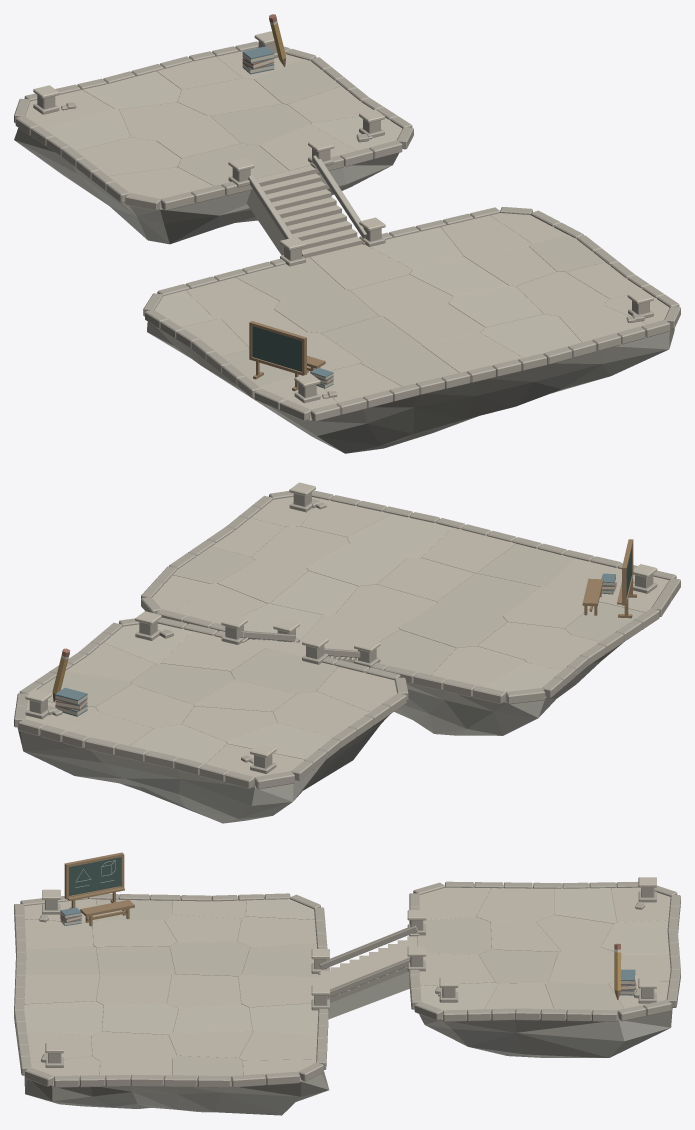
Rendered from Cenariofase4v2.fbx.
3 renders of one model, top to bottom at view 1: azimuth 30°, elevation 25°; view 2: azimuth 150°, elevation 25°; view 3: azimuth 270°, elevation 25°, orthographic. The views are drawn at different scales.
Parts seen in each view (by area): view 1: Regiao01_Lajes, Regiao02_Lajes, Regiao01_BaseRochosa, Regiao01_Bordadura, Regiao02_Bordadura, Regiao02_BaseRochosa, Escadaria_Degraus, Pilares_Pedra, Escola_QuadroDecorativo, Escadaria_GuiasLaterais, Escadaria_Estrutura, Escola_Livros_Superior; view 2: Regiao01_Lajes, Regiao02_Lajes, Regiao02_BaseRochosa, Regiao01_Bordadura, Regiao02_Bordadura, Regiao01_BaseRochosa, Pilares_Pedra, Escola_QuadroDecorativo, Escola_Livros_Superior, Escadaria_GuiasLaterais, Escadaria_Degraus, Escola_Banco; view 3: Regiao01_Lajes, Regiao02_Lajes, Regiao01_Bordadura, Regiao02_BaseRochosa, Regiao01_BaseRochosa, Regiao02_Bordadura, Pilares_Pedra, Escola_QuadroDecorativo, Escadaria_Degraus, Escadaria_GuiasLaterais, Escadaria_Estrutura, Escola_Banco (+1 smaller).
Part boxes in pixels (x1=…): Regiao01_Lajes: x1=155, y1=213, x2=669, y2=409; Regiao02_Lajes: x1=25, y1=48, x2=402, y2=199; Regiao01_BaseRochosa: x1=147, y1=322, x2=674, y2=453; Regiao01_Bordadura: x1=143, y1=206, x2=680, y2=421; Regiao02_Bordadura: x1=14, y1=41, x2=413, y2=210; Regiao02_BaseRochosa: x1=14, y1=128, x2=398, y2=244; Escadaria_Degraus: x1=256, y1=165, x2=362, y2=258; Pilares_Pedra: x1=33, y1=31, x2=653, y2=403; Escola_QuadroDecorativo: x1=249, y1=321, x2=308, y2=391; Escadaria_GuiasLaterais: x1=248, y1=155, x2=366, y2=239; Escadaria_Estrutura: x1=246, y1=189, x2=285, y2=255; Escola_Livros_Superior: x1=242, y1=46, x2=274, y2=74; Regiao01_Lajes: x1=152, y1=497, x2=669, y2=694; Regiao02_Lajes: x1=25, y1=623, x2=396, y2=777; Regiao02_BaseRochosa: x1=17, y1=714, x2=390, y2=823; Regiao01_Bordadura: x1=141, y1=490, x2=680, y2=704; Regiao02_Bordadura: x1=14, y1=617, x2=408, y2=789; Regiao01_BaseRochosa: x1=394, y1=642, x2=623, y2=735; Pilares_Pedra: x1=25, y1=482, x2=657, y2=773; Escola_QuadroDecorativo: x1=617, y1=539, x2=636, y2=618; Escola_Livros_Superior: x1=55, y1=687, x2=87, y2=716; Escadaria_GuiasLaterais: x1=240, y1=631, x2=360, y2=658; Escadaria_Degraus: x1=245, y1=639, x2=356, y2=662; Escola_Banco: x1=582, y1=578, x2=603, y2=615; Regiao01_Lajes: x1=24, y1=899, x2=320, y2=1078; Regiao02_Lajes: x1=417, y1=887, x2=670, y2=1012; Regiao01_Bordadura: x1=14, y1=893, x2=328, y2=1087; Regiao02_BaseRochosa: x1=419, y1=1008, x2=672, y2=1057; Regiao01_BaseRochosa: x1=24, y1=1071, x2=329, y2=1115; Regiao02_Bordadura: x1=409, y1=881, x2=680, y2=1021; Pilares_Pedra: x1=42, y1=877, x2=656, y2=1067; Escola_QuadroDecorativo: x1=64, y1=852, x2=124, y2=908; Escadaria_Degraus: x1=320, y1=936, x2=416, y2=1002; Escadaria_GuiasLaterais: x1=319, y1=925, x2=417, y2=998; Escadaria_Estrutura: x1=328, y1=971, x2=409, y2=1019; Escola_Banco: x1=80, y1=900, x2=134, y2=926.
Size of the model in its own units: 2072 by 1044 by 3122.
